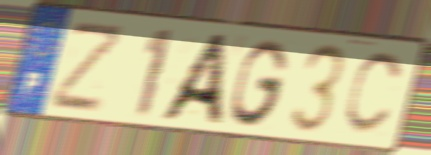1: (134, 26, 177, 120)
3: (287, 41, 347, 137)
A: (154, 31, 233, 128)
C: (340, 50, 407, 139)
G: (228, 37, 292, 129)
Z: (48, 22, 130, 115)
